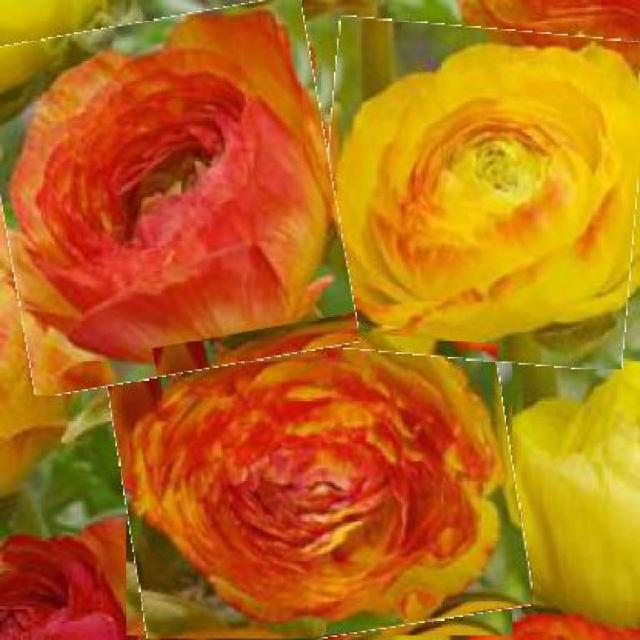Flower: (0, 5, 348, 385), (116, 326, 525, 639), (319, 22, 639, 365)
